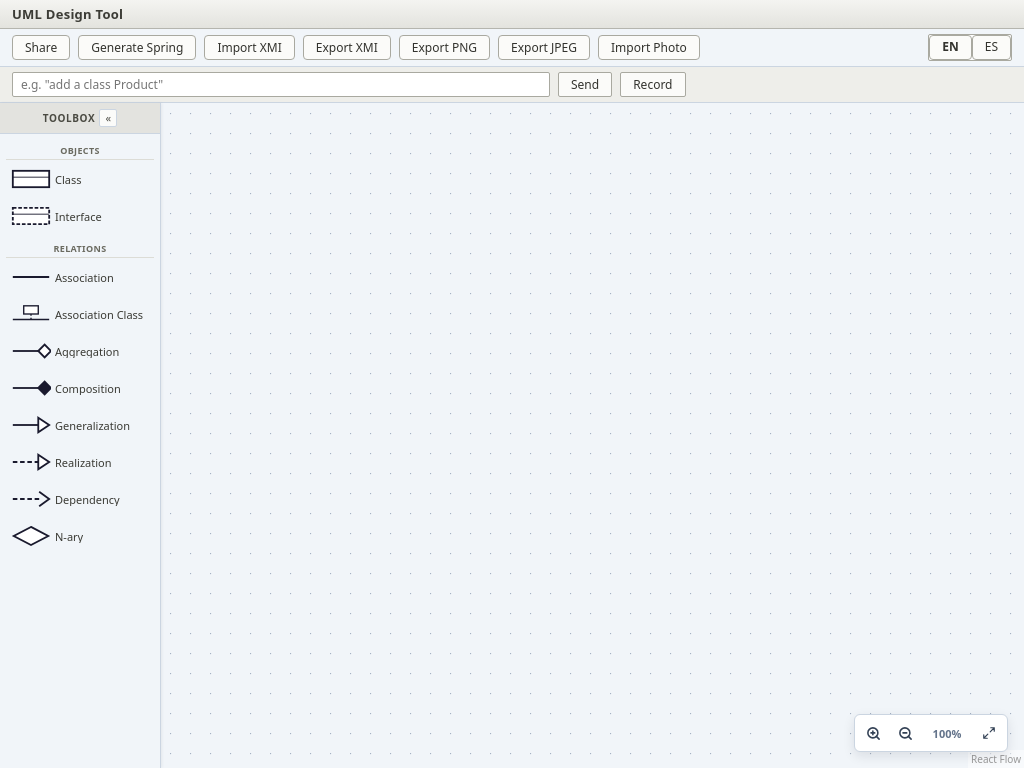
App delta-preview modal (interpreter:R2) › discards the pending delta on Reject and leaves the model unchanged
The width and height of the screenshot is (1024, 768).
Type "add a class Product" into the field named "Natural language command". click: (281, 84)
box: [12,72,550,97]
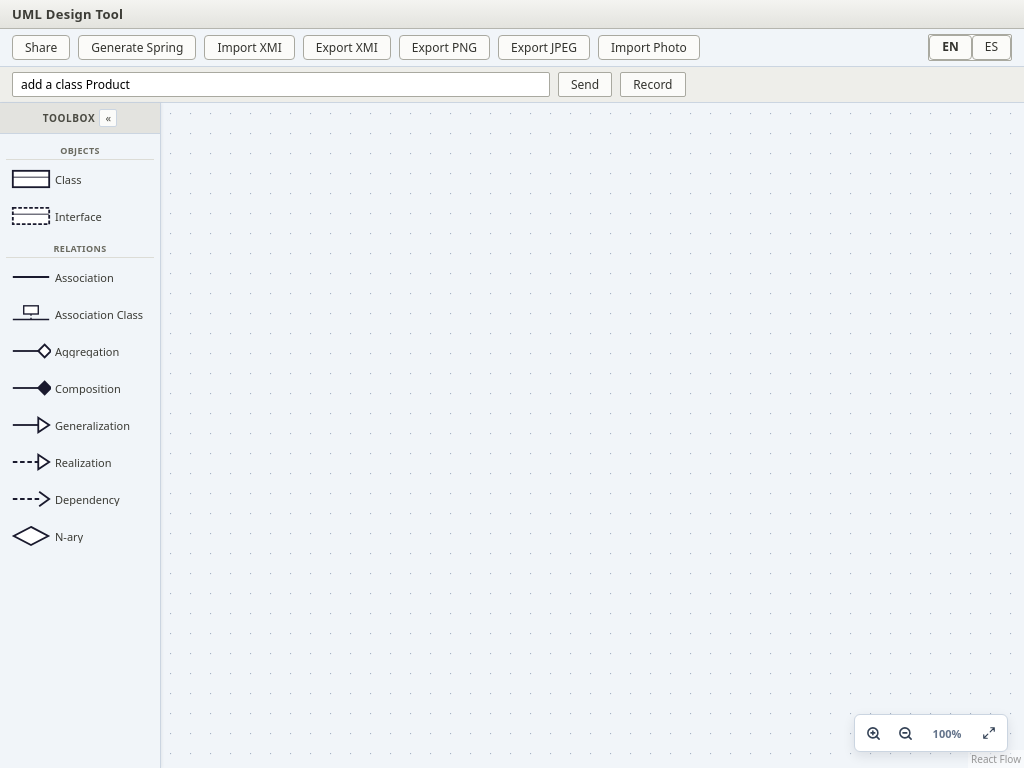
Click the button "Send". click: (585, 84)
box: [558,72,612,97]
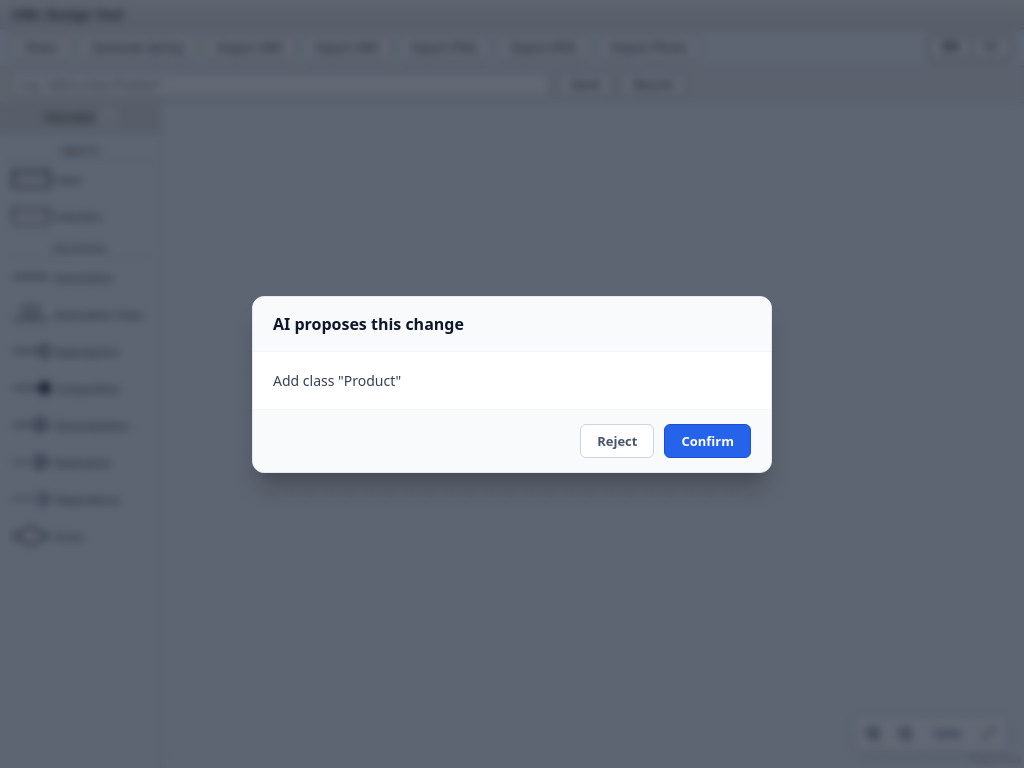
Now the text "Add class \"Product\"" is shown, box [253,352,771,408]
Click the button "Reject". click: (617, 440)
box: [580,424,654,458]
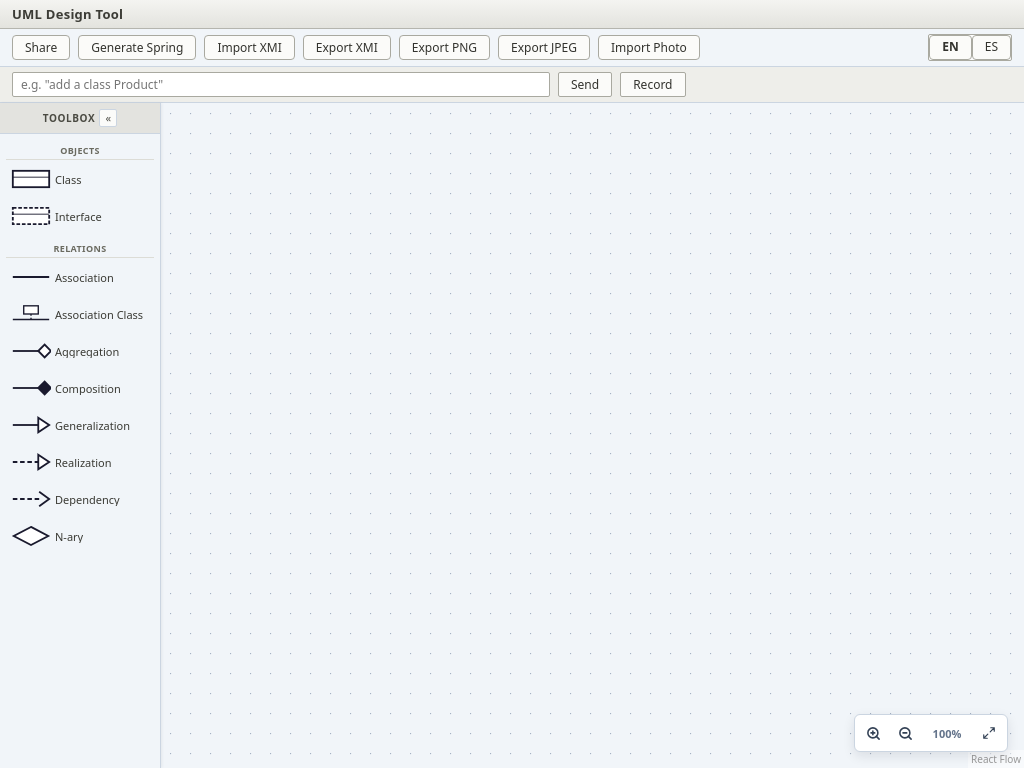
Now the text "Add class \"Product\"" is gone
